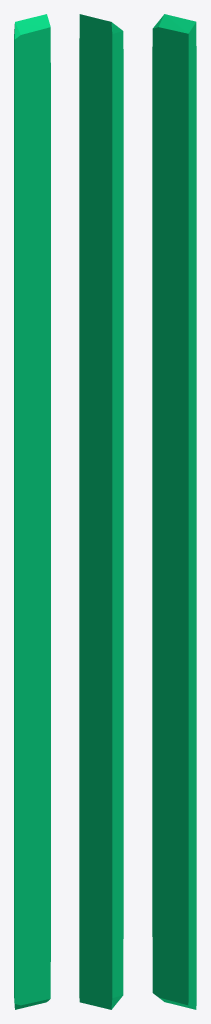
The model's file is simple_example_hole_part_47.obj.
3 renders of one model, left to right at view 1: azimuth 30°, elevation 25°; view 2: azimuth 150°, elevation 25°; view 3: azimuth 330°, elevation 25°, orthographic.
Bounding box in the file's own units: 0.4533 × 11.23 × 0.121.
